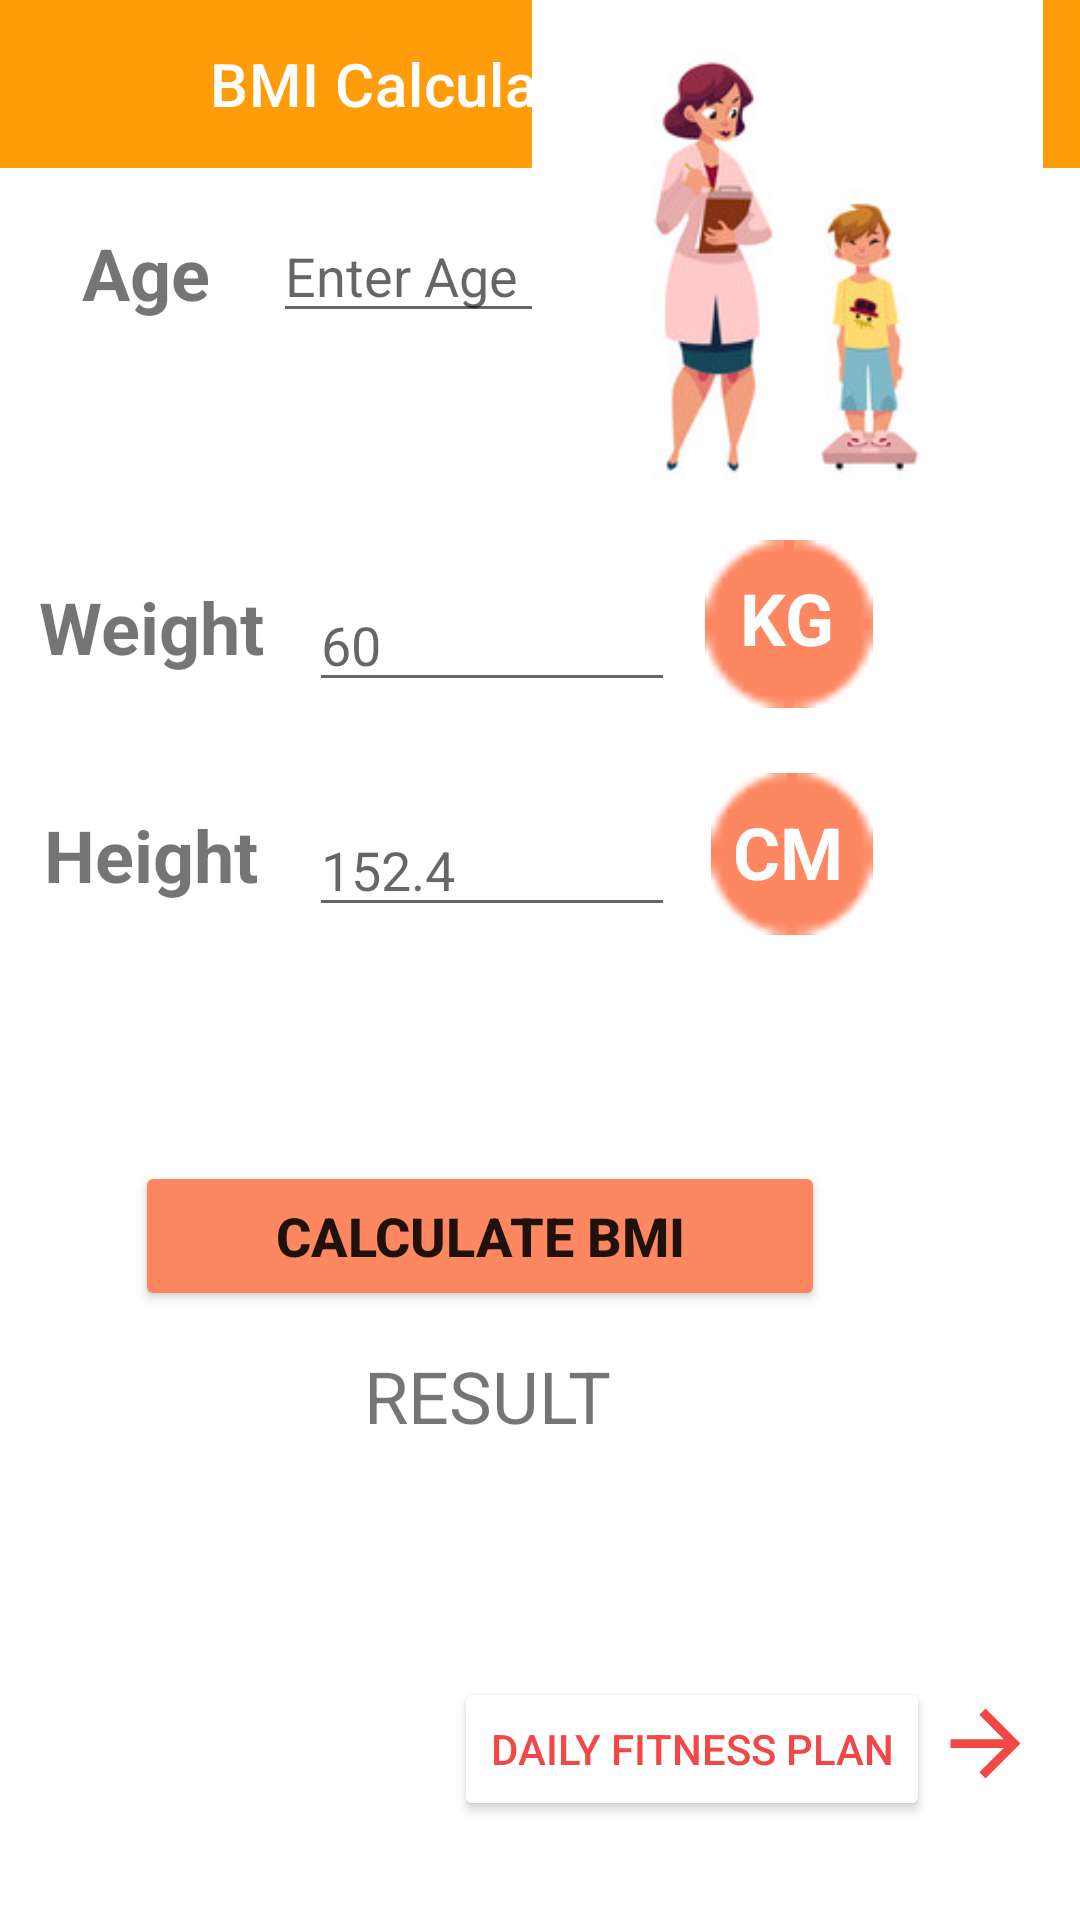

Screen size 1080*1920. Icon name, then its center in pixels as (x=x, y=y):
arrow forward: (x=985, y=1743)
